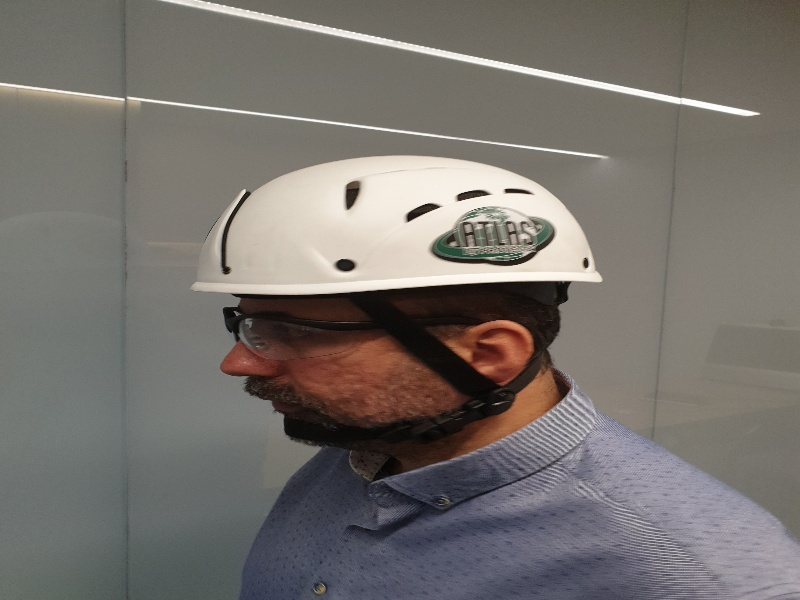Baret: (195, 156, 605, 290)
Gozluk: (222, 306, 478, 359)
